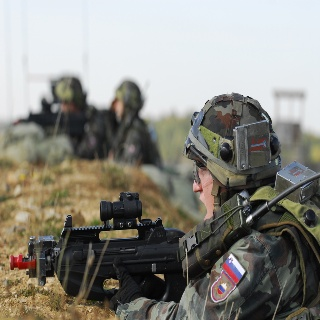rifle: (7, 190, 188, 304)
